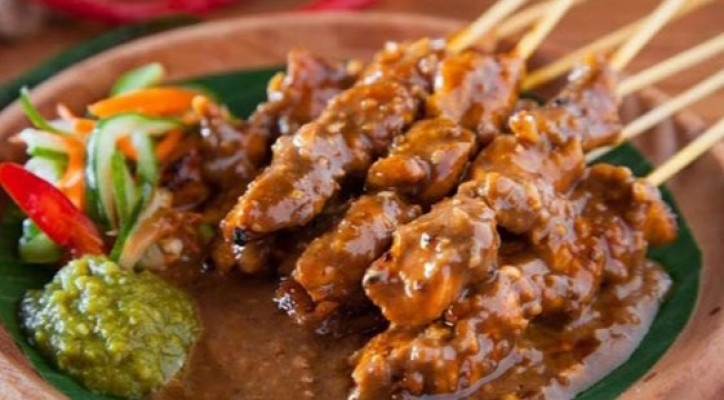sate_madura: (225, 1, 724, 395)
